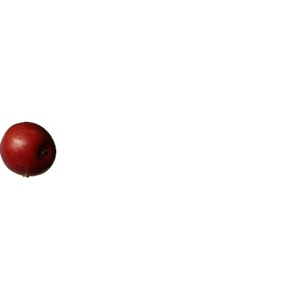maçã braeburn: (2, 120, 56, 179)
